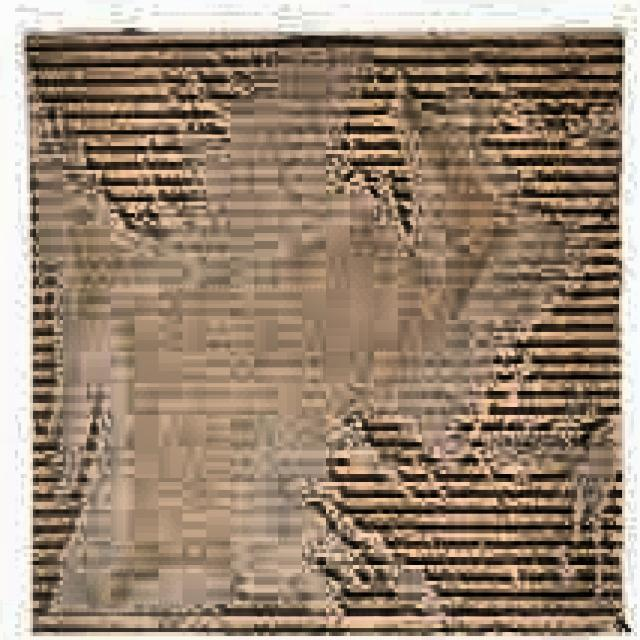cardboard: (24, 32, 631, 640)
